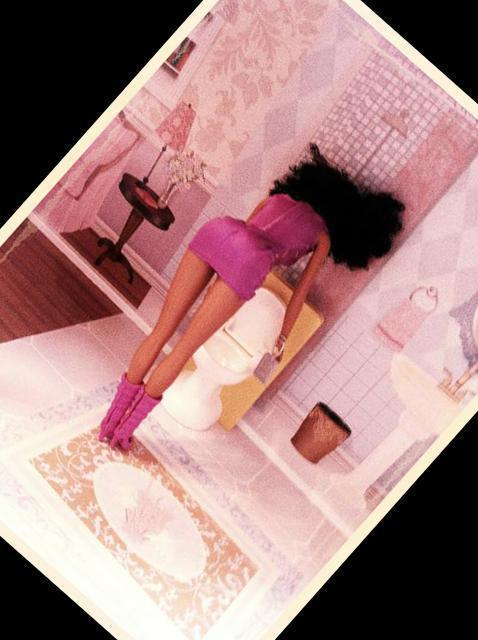Lavamanos: (301, 315, 478, 521)
Sanitario: (115, 246, 307, 442), (282, 403, 353, 474)
